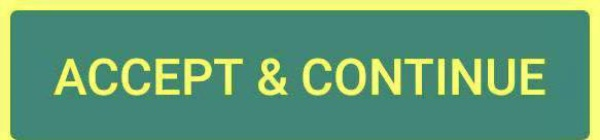Button: (1, 1, 599, 139)
